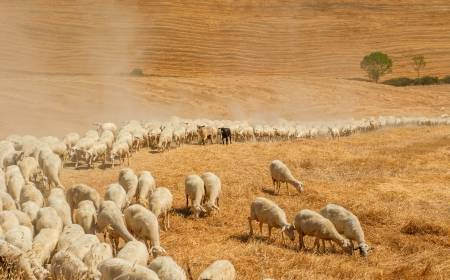sheep: (292, 207, 354, 259), (327, 195, 379, 256), (242, 196, 298, 248), (261, 156, 305, 195), (202, 165, 227, 222), (179, 174, 204, 216)
